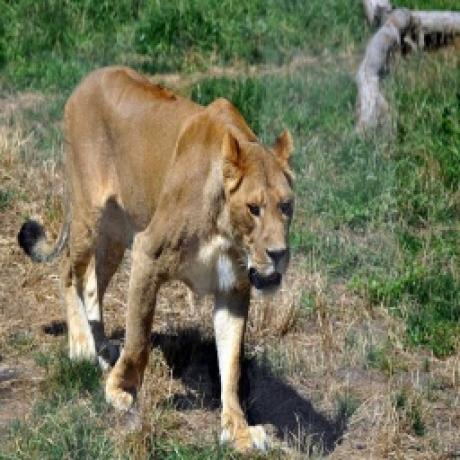Lion: (17, 65, 298, 442)
